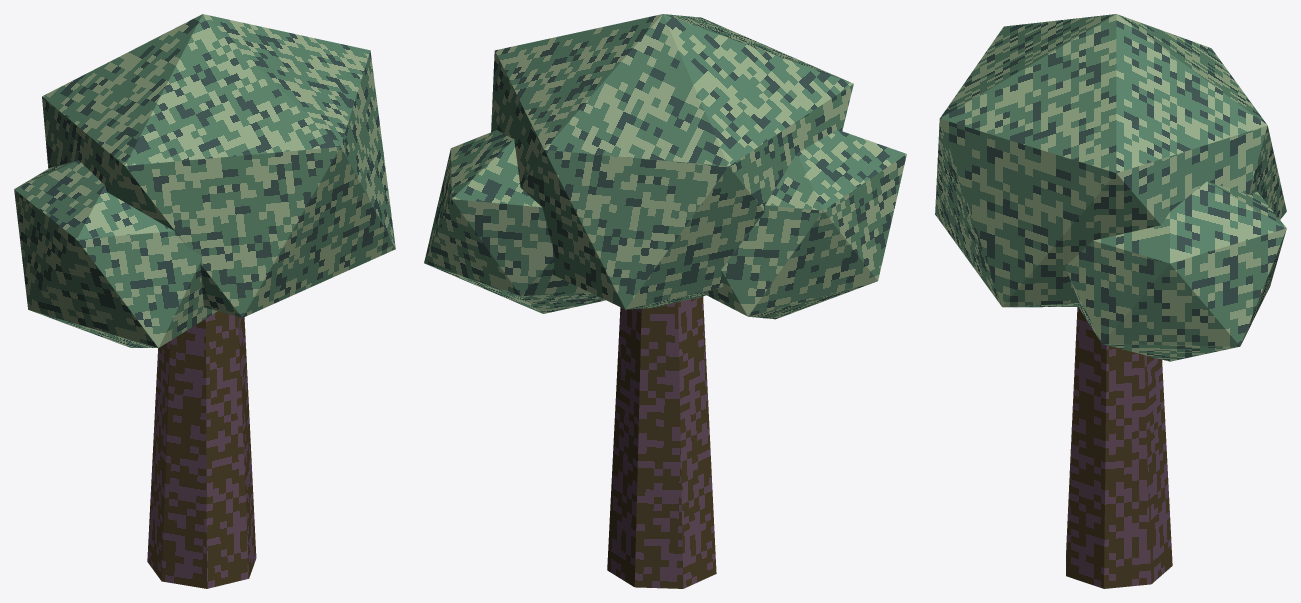
File: r03_arvore_mangue.glb
The picture shows the model from 3 angles, left to right: view 1: azimuth 30°, elevation 25°; view 2: azimuth 150°, elevation 25°; view 3: azimuth 270°, elevation 25°; orthographic projection.
Parts seen in each view (by area): view 1: r03_arvore_mangue; view 2: r03_arvore_mangue; view 3: r03_arvore_mangue.
Part boxes in pixels (x1,y1,x2,y2): r03_arvore_mangue: (14,14,395,588); r03_arvore_mangue: (424,14,906,588); r03_arvore_mangue: (935,14,1286,588).
Size of the model in its own units: 3.61 by 5.01 by 2.89.
Materials: 2 (2 with a texture image).
